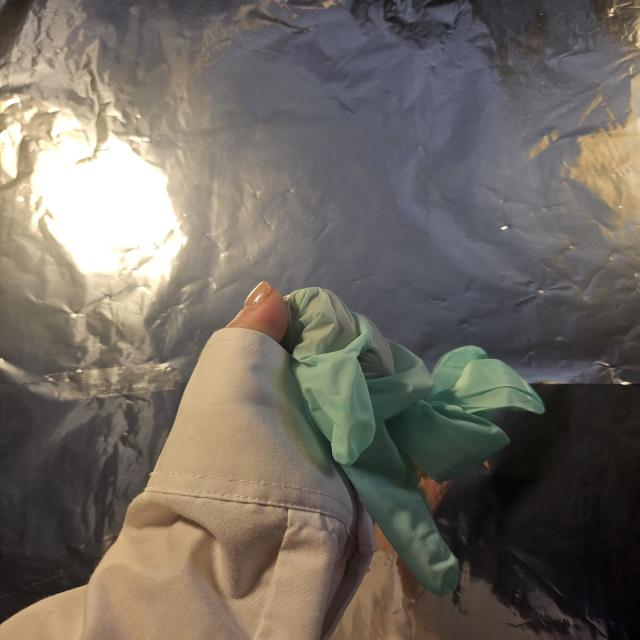glove_partial: (222, 274, 548, 596)
